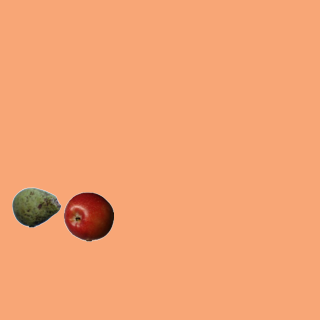Apple Braeburn: (63, 191, 113, 241)
Pear Stone: (11, 182, 61, 232)
